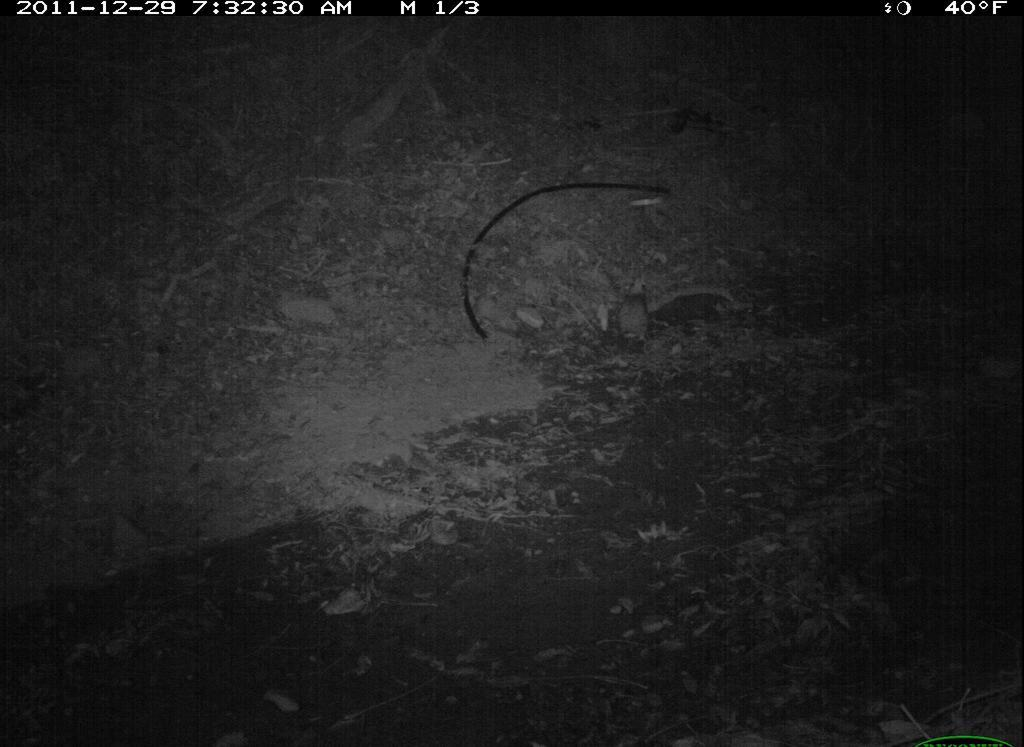rabbit: (602, 260, 664, 355)
